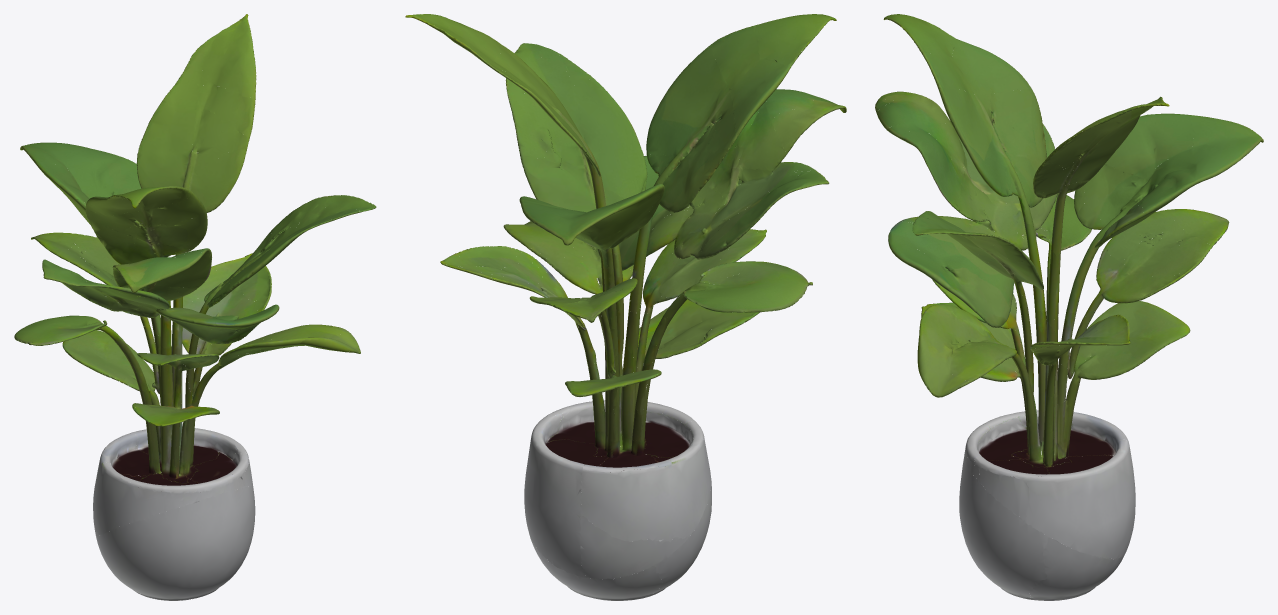
3 renders of one model, left to right at view 1: azimuth 30°, elevation 25°; view 2: azimuth 150°, elevation 25°; view 3: azimuth 270°, elevation 25°, orthographic. The views are drawn at different scales.
Visible parts, largest first — view 1: tripo_node_905d9559-ba53-4726-9ecf-0efe50a6cd48; view 2: tripo_node_905d9559-ba53-4726-9ecf-0efe50a6cd48; view 3: tripo_node_905d9559-ba53-4726-9ecf-0efe50a6cd48.
Boxes of the visible parts, x1=… form: tripo_node_905d9559-ba53-4726-9ecf-0efe50a6cd48: x1=14, y1=14, x2=376, y2=600; tripo_node_905d9559-ba53-4726-9ecf-0efe50a6cd48: x1=405, y1=14, x2=846, y2=600; tripo_node_905d9559-ba53-4726-9ecf-0efe50a6cd48: x1=875, y1=14, x2=1263, y2=600.
Bounding box in the file's own units: 0.6306 × 0.9999 × 0.6475.
1 material, 1 textured.
